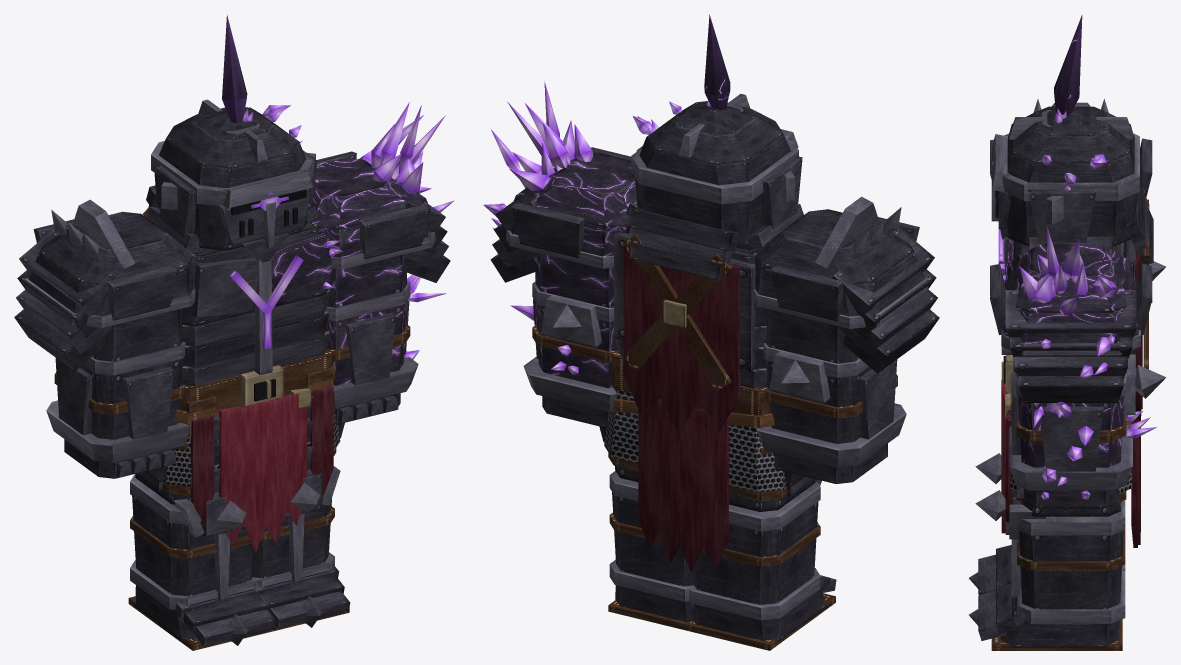
File: EliteOneHorn.fbx
3 renders of one model, left to right at view 1: azimuth 30°, elevation 25°; view 2: azimuth 150°, elevation 25°; view 3: azimuth 270°, elevation 25°, orthographic. The views are drawn at different scales.
Visible parts, largest first — view 1: RightUpperArm_Armor, LowerTorso_Armor, Head_Armor, UpperTorso_Armor, LeftUpperArm_Armor, RightLowerLeg_Armor, RightLowerArm_Armor, RightFoot_Armor, LeftLowerLeg_Armor, LeftLowerArm_Armor, RightHand_Armor, LeftFoot_Armor (+5 smaller); view 2: RightUpperArm_Armor, Head_Armor, UpperTorso_Armor, LowerTorso_Armor, LeftUpperArm_Armor, RightLowerLeg_Armor, RightLowerArm_Armor, RightFoot_Armor, LeftLowerArm_Armor, RightHand_Armor, LeftLowerLeg_Armor, LeftUpperArm_Glow (+3 smaller); view 3: Head_Armor, LeftUpperArm_Armor, LeftLowerLeg_Armor, LeftLowerArm_Armor, LeftFoot_Armor, LeftHand_Armor, LeftUpperArm_Glow, LowerTorso_Armor, UpperTorso_Armor, LeftLowerArm_Glow, RightFoot_Armor, LeftUpperLeg_Armor (+3 smaller).
Part boxes in pixels (x1=…): RightUpperArm_Armor: x1=14, y1=199, x2=195, y2=375; LowerTorso_Armor: x1=145, y1=351, x2=344, y2=551; Head_Armor: x1=146, y1=15, x2=317, y2=262; UpperTorso_Armor: x1=142, y1=203, x2=332, y2=385; LeftUpperArm_Armor: x1=310, y1=151, x2=450, y2=321; RightLowerLeg_Armor: x1=130, y1=474, x2=253, y2=600; RightLowerArm_Armor: x1=54, y1=358, x2=185, y2=439; RightFoot_Armor: x1=128, y1=560, x2=276, y2=650; LeftLowerLeg_Armor: x1=253, y1=466, x2=340, y2=582; LeftLowerArm_Armor: x1=326, y1=300, x2=410, y2=385; RightHand_Armor: x1=46, y1=400, x2=191, y2=478; LeftFoot_Armor: x1=251, y1=552, x2=350, y2=630; RightUpperArm_Armor: x1=753, y1=196, x2=939, y2=377; Head_Armor: x1=626, y1=14, x2=802, y2=280; UpperTorso_Armor: x1=614, y1=198, x2=803, y2=434; LowerTorso_Armor: x1=599, y1=352, x2=804, y2=571; LeftUpperArm_Armor: x1=490, y1=147, x2=636, y2=321; RightLowerLeg_Armor: x1=693, y1=479, x2=821, y2=604; RightLowerArm_Armor: x1=763, y1=351, x2=897, y2=443; RightFoot_Armor: x1=684, y1=568, x2=836, y2=650; LeftLowerArm_Armor: x1=532, y1=295, x2=618, y2=388; RightHand_Armor: x1=756, y1=403, x2=906, y2=483; LeftLowerLeg_Armor: x1=609, y1=471, x2=694, y2=586; LeftUpperArm_Glow: x1=483, y1=82, x2=593, y2=229; Head_Armor: x1=991, y1=15, x2=1153, y2=264; LeftUpperArm_Armor: x1=990, y1=243, x2=1152, y2=402; LeftLowerLeg_Armor: x1=975, y1=490, x2=1125, y2=609; LeftLowerArm_Armor: x1=1011, y1=354, x2=1165, y2=471; LeftFoot_Armor: x1=969, y1=570, x2=1125, y2=650; LeftHand_Armor: x1=1009, y1=425, x2=1132, y2=507; LeftUpperArm_Glow: x1=1019, y1=226, x2=1116, y2=377; LowerTorso_Armor: x1=1001, y1=355, x2=1140, y2=547; UpperTorso_Armor: x1=1001, y1=199, x2=1152, y2=419; LeftLowerArm_Glow: x1=1033, y1=402, x2=1156, y2=483; RightFoot_Armor: x1=969, y1=545, x2=1125, y2=595; LeftUpperLeg_Armor: x1=1011, y1=416, x2=1126, y2=516.
Size of the model in its own units: 549 by 759 by 227.
2 materials, 2 textured.
